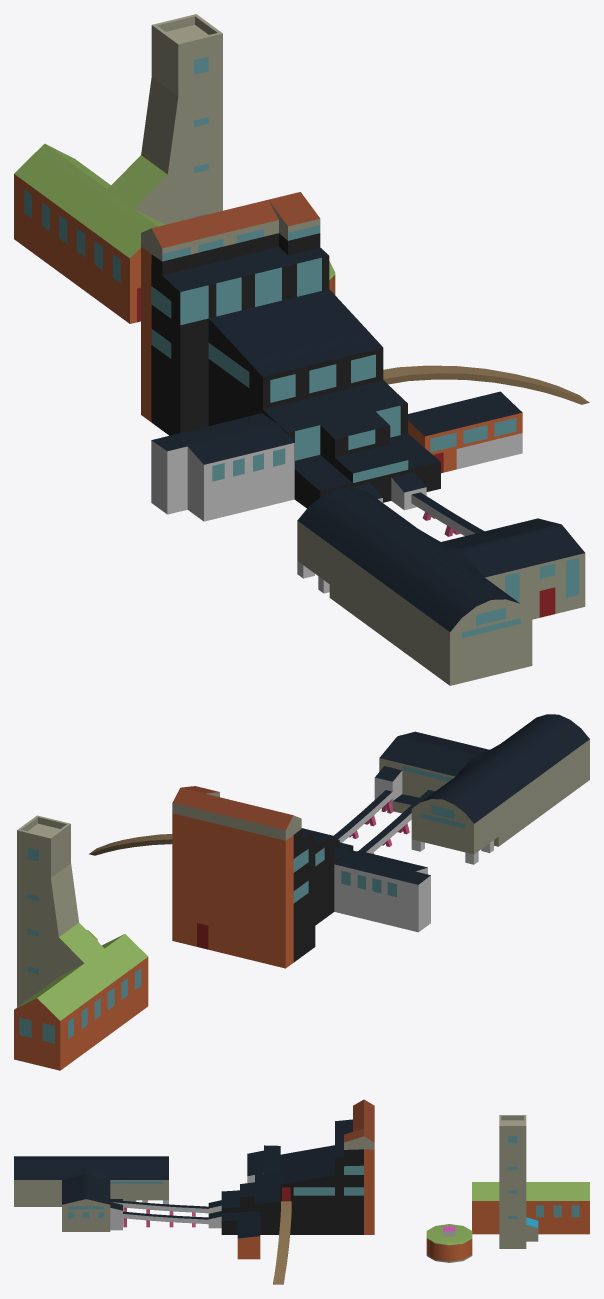
File: Kaivos.fbx
3 views of the same model, one above another, from view 1: azimuth 30°, elevation 25°; view 2: azimuth 150°, elevation 25°; view 3: azimuth 270°, elevation 25° (orthographic). The views are drawn at different scales.
Parts seen in each view (by area): view 1: pCylinder2; view 2: pCylinder2; view 3: pCylinder2.
Part boxes in pixels (box(x1,y1,x2,y2)): pCylinder2: box(14, 14, 589, 685); pCylinder2: box(14, 714, 589, 1070); pCylinder2: box(14, 1099, 589, 1284).
Bounding box in the file's own units: 10731 × 5746 × 24423.
